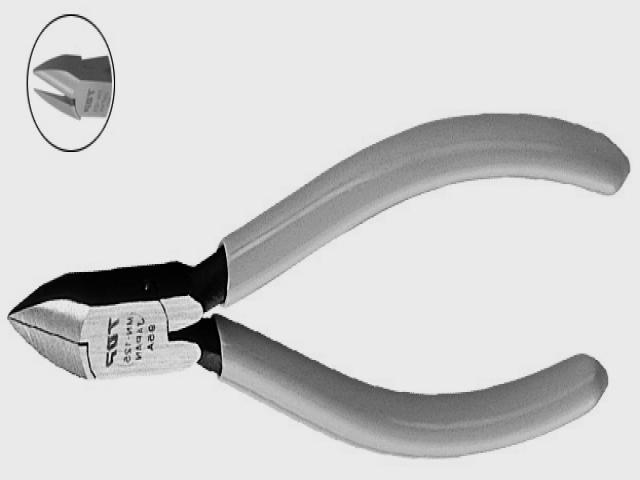Cutting pliers: (8, 115, 629, 457), (34, 57, 112, 120)
